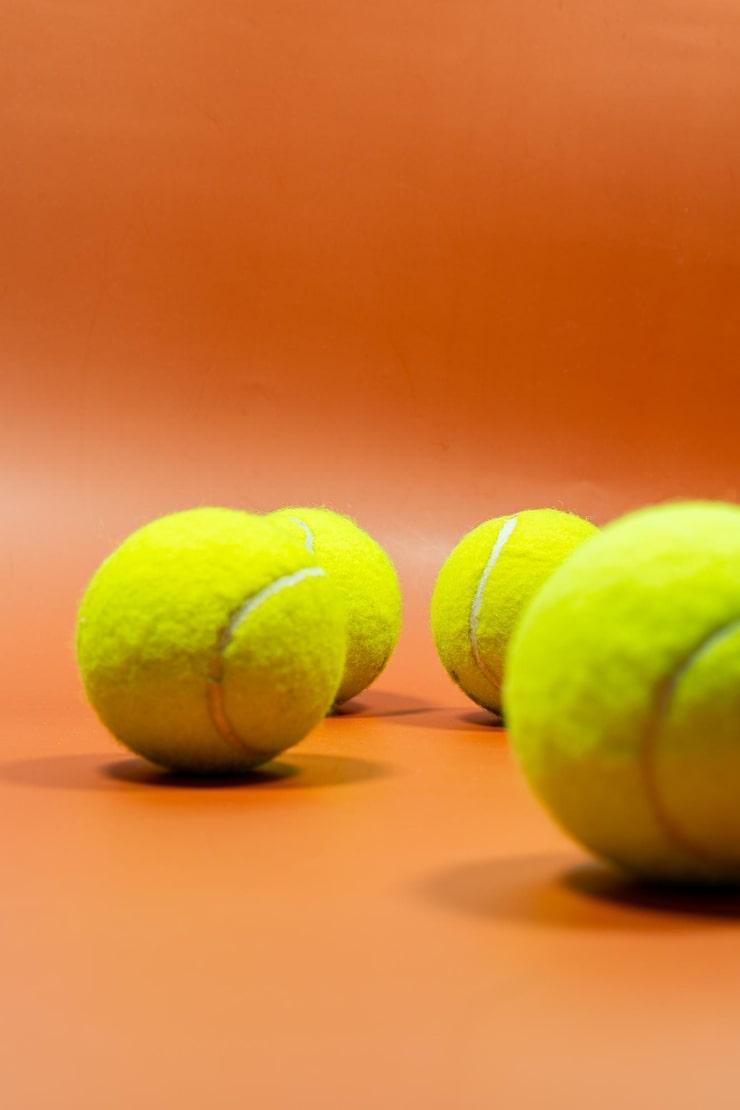ball_tennis: (505, 497, 740, 908), (80, 508, 343, 780), (432, 500, 613, 718)
